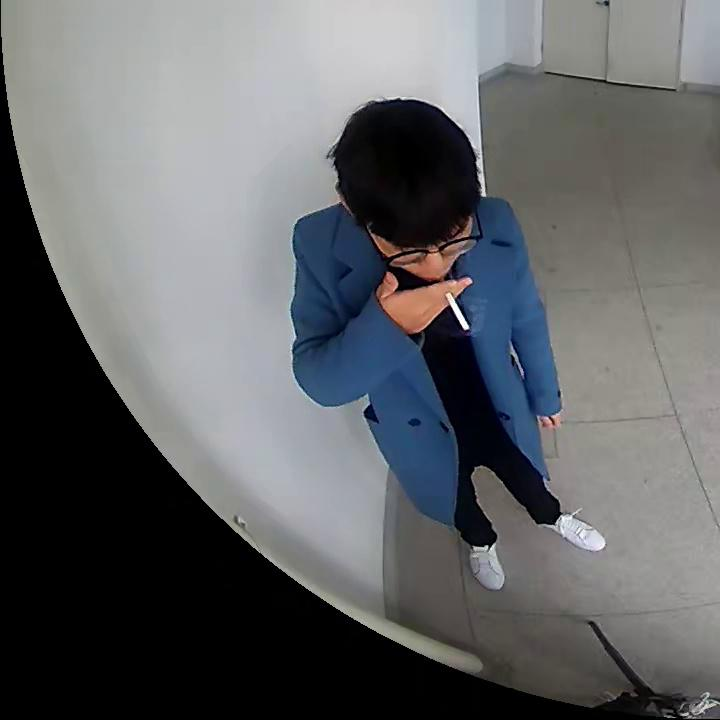handwithoutsmoke: (539, 411, 570, 436)
mouthsmoke: (331, 99, 478, 334)
